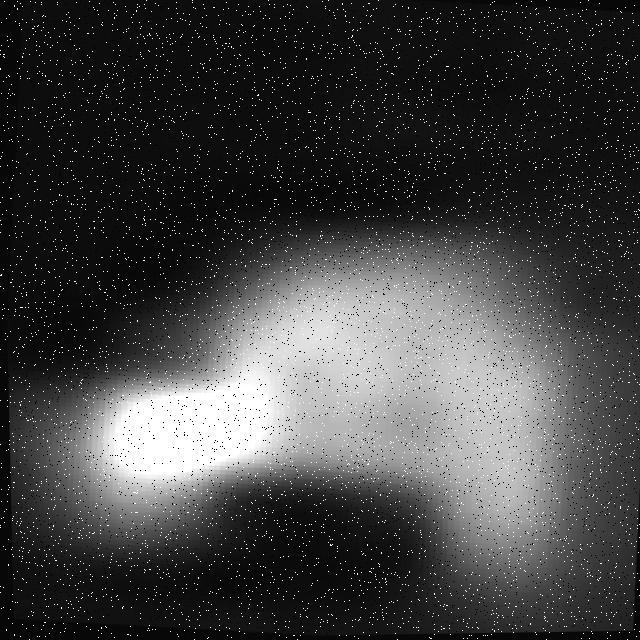person: (5, 195, 590, 625)
